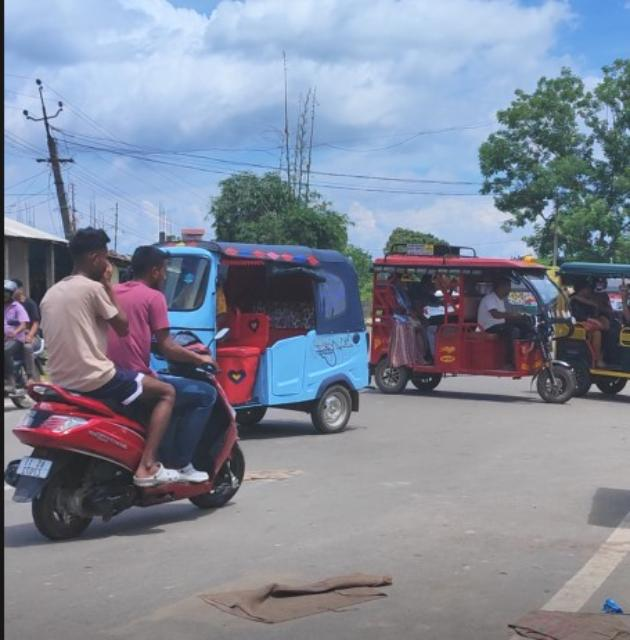licensePlate: (13, 455, 50, 480)
motorcycle: (0, 225, 246, 537)
withoutHelmet: (68, 229, 108, 279), (129, 251, 166, 288)
